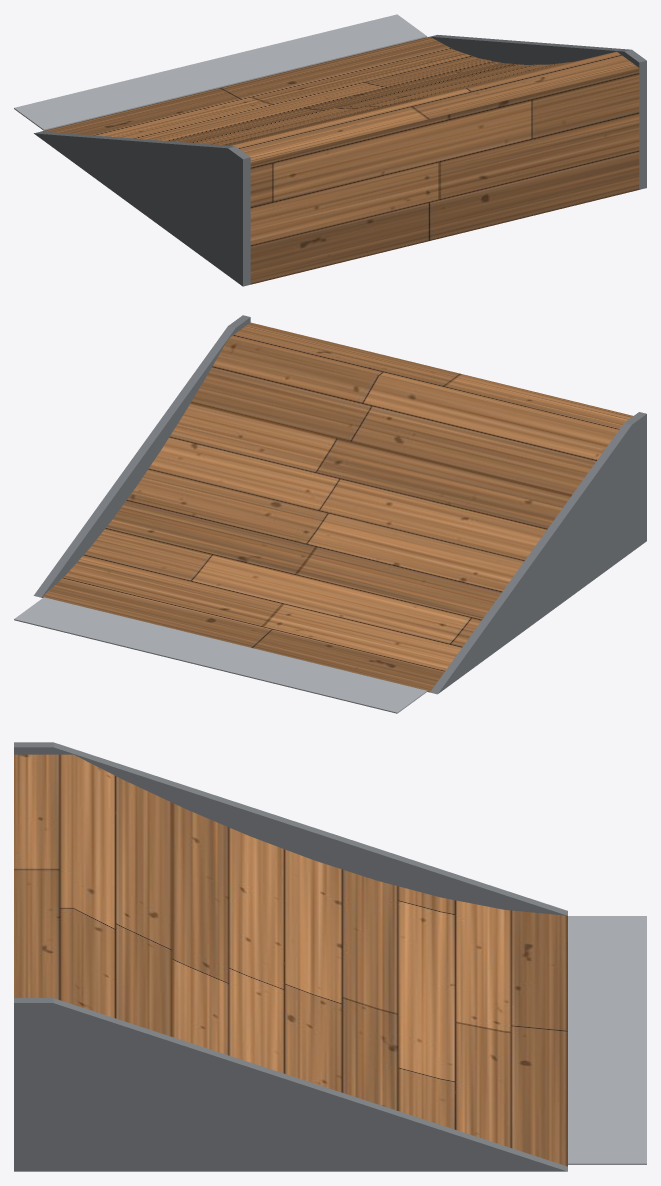
Rendered from kicker.glb.
The picture shows the model from 3 angles, top to bottom: view 1: azimuth 30°, elevation 25°; view 2: azimuth 150°, elevation 25°; view 3: azimuth 270°, elevation 25°; orthographic projection. The views are drawn at different scales.
Parts seen in each view (by area): view 1: kicker_wood, kicker_steel_d, kicker_steel; view 2: kicker_wood, kicker_steel_d, kicker_steel; view 3: kicker_wood, kicker_steel_d, kicker_steel.
Part boxes in pixels (<box>): kicker_wood: <box>41,36,639,284</box>; kicker_steel_d: <box>34,34,646,286</box>; kicker_steel: <box>14,14,427,130</box>; kicker_wood: <box>41,322,632,692</box>; kicker_steel_d: <box>33,315,646,694</box>; kicker_steel: <box>14,597,427,713</box>; kicker_wood: <box>14,754,567,1166</box>; kicker_steel_d: <box>14,742,567,1171</box>; kicker_steel: <box>568,916,646,1164</box>.
Bounding box in the file's own units: 1.56 × 0.47 × 1.6.
Materials: 3 (1 with a texture image).
